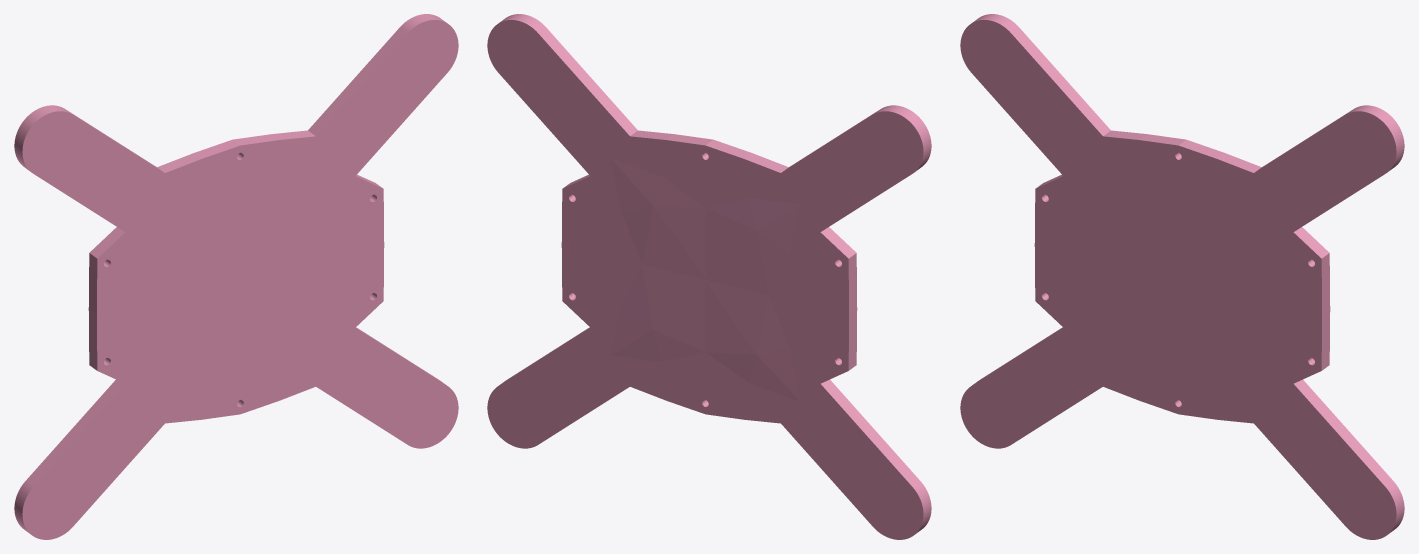
File: Piece 2.obj
3 views of the same model, side by side, from view 1: azimuth 30°, elevation 25°; view 2: azimuth 150°, elevation 25°; view 3: azimuth 330°, elevation 25° (orthographic).
Parts seen in each view (by area): view 1: Object.1; view 2: Object.1; view 3: Object.1.
Part boxes in pixels (bbox=[...]): Object.1: bbox=[14, 14, 458, 539]; Object.1: bbox=[487, 14, 931, 539]; Object.1: bbox=[960, 14, 1404, 539].
Bounding box in the file's own units: 149 × 139 × 5.03.
